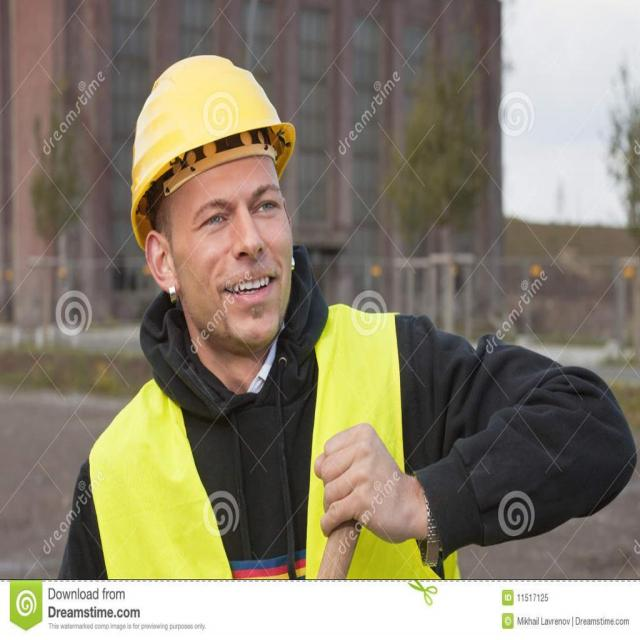nomask: (180, 135, 290, 330)
